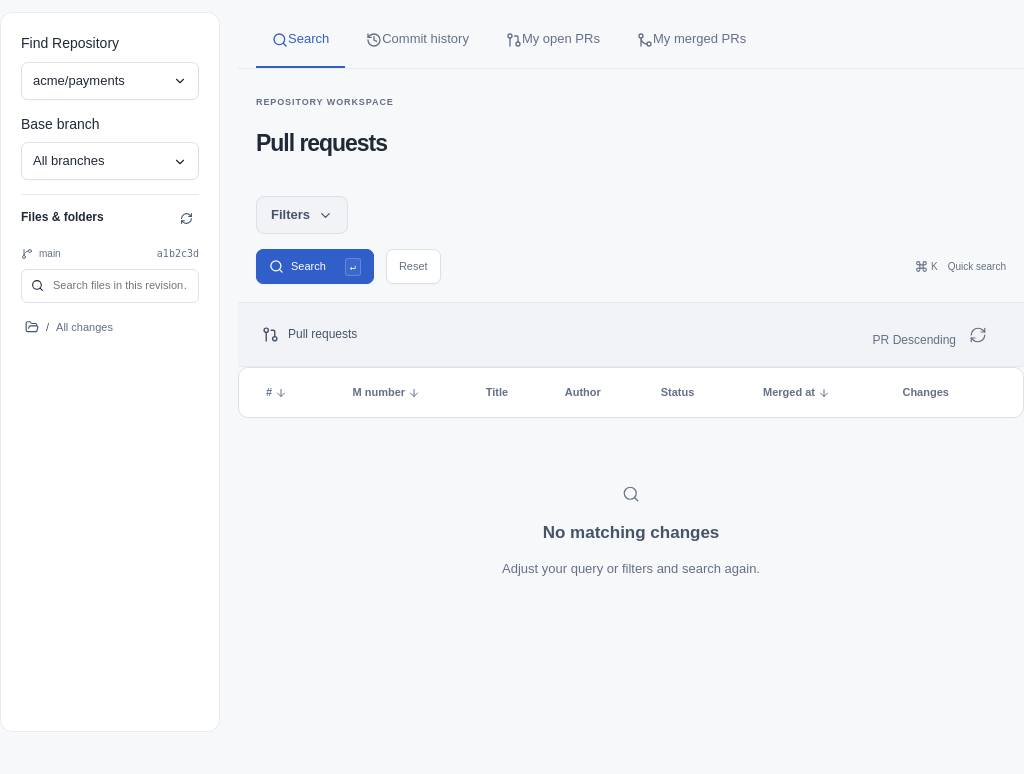
Test: CR-111: Range filter 통합 › 활성 range가 있으면 유형을 감추고 있어도 요약을 보인다
Click the button "Filters".
click(302, 215)  # box [256,196,348,234]
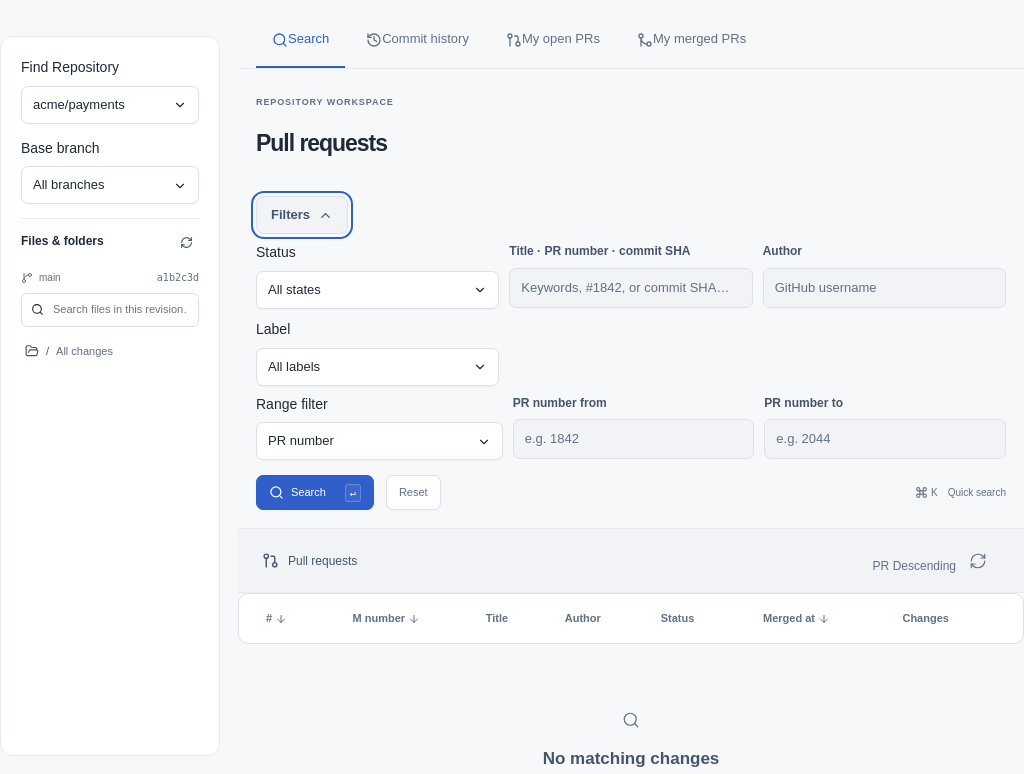
Type "1842" into the number field labelled "PR number from".
click(634, 439); type("1842")  # box [513,419,754,459]
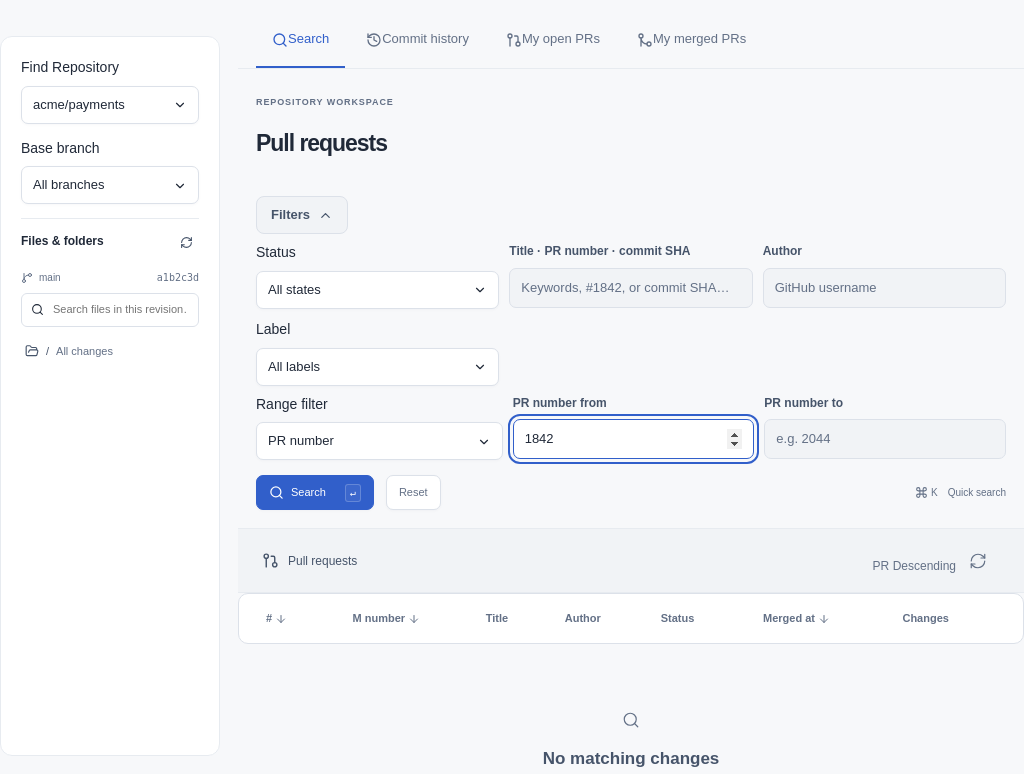
Type "2044" into the number field labelled "PR number to".
click(885, 439); type("2044")  # box [764,419,1006,459]
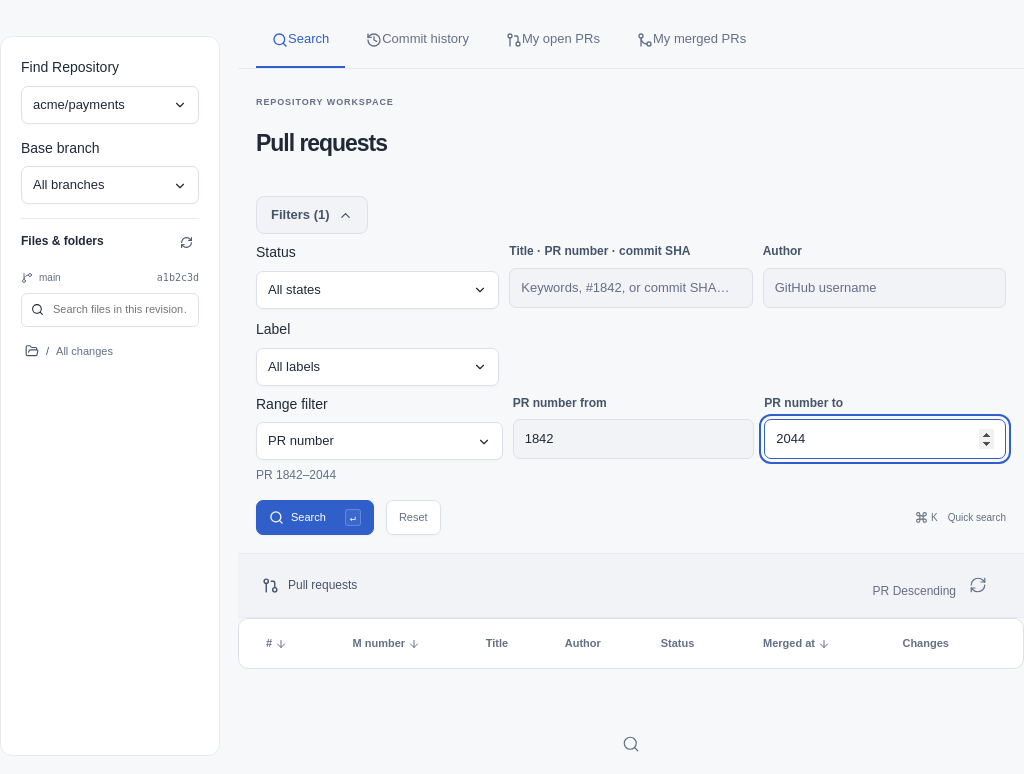
Result: the text "PR 1842–2044" is shown at [256,468,336,482]
